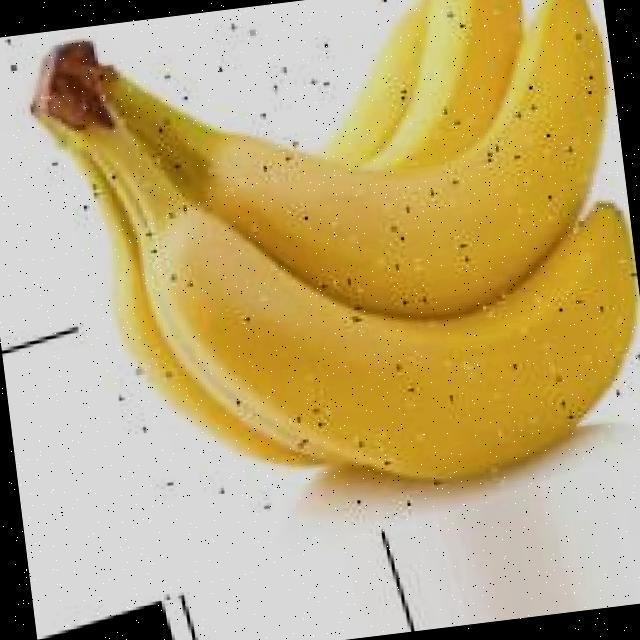banana: (3, 0, 640, 552)
